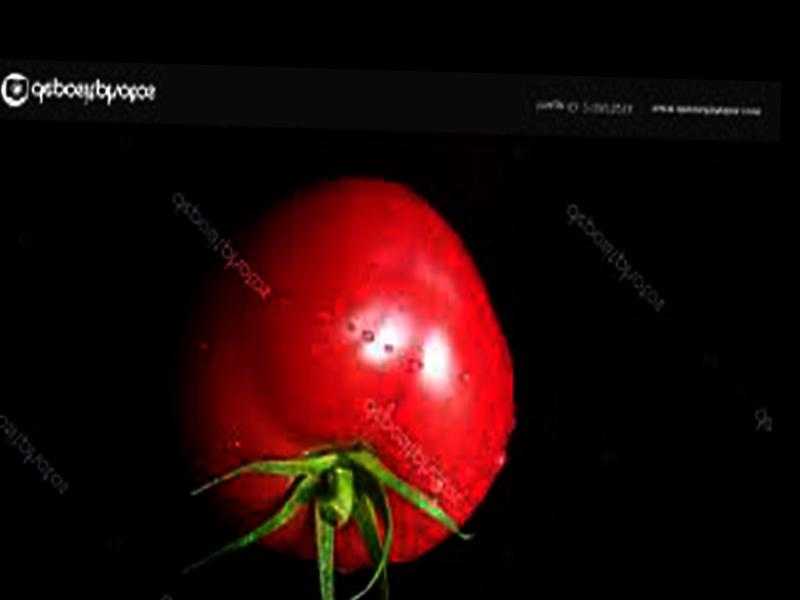Tomato: (167, 172, 522, 575)
